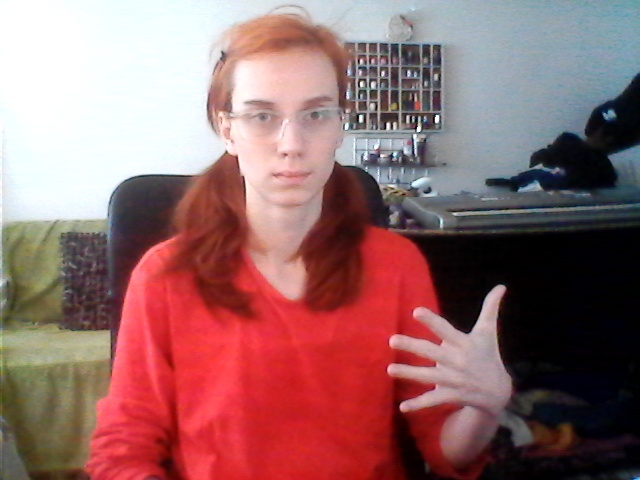pat: (379, 281, 516, 415)
